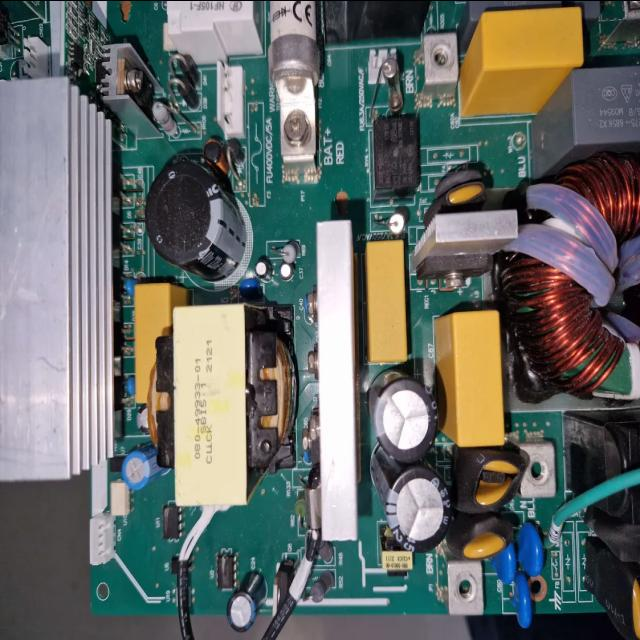A: (508, 156, 640, 397)
B: (270, 0, 319, 177)
C: (146, 162, 247, 279), (384, 464, 452, 552), (372, 370, 438, 460)
